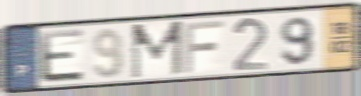2: (230, 15, 272, 73)
9: (278, 14, 319, 67), (91, 26, 127, 80)
E: (37, 27, 87, 85)
F: (182, 18, 226, 75)
M: (129, 19, 185, 81)
